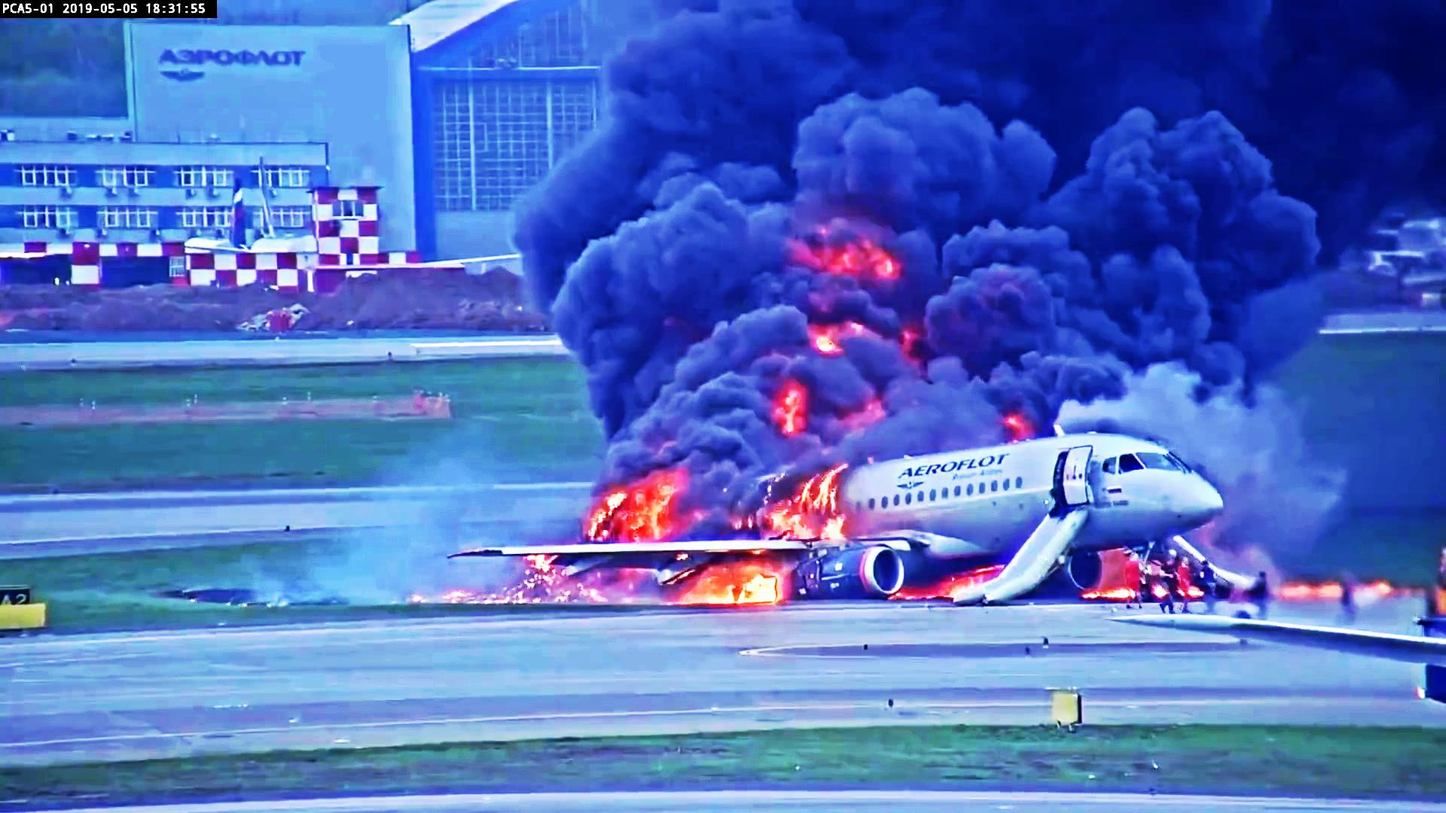fire: (769, 469, 868, 542), (595, 469, 680, 547), (676, 551, 781, 608)
smoke: (529, 85, 804, 410), (1020, 110, 1318, 390), (787, 76, 1072, 264)
